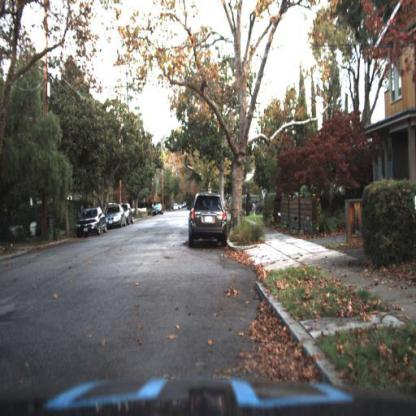car: (185, 192, 232, 249), (76, 202, 107, 239), (105, 204, 125, 230), (124, 203, 135, 226), (153, 202, 165, 217)
